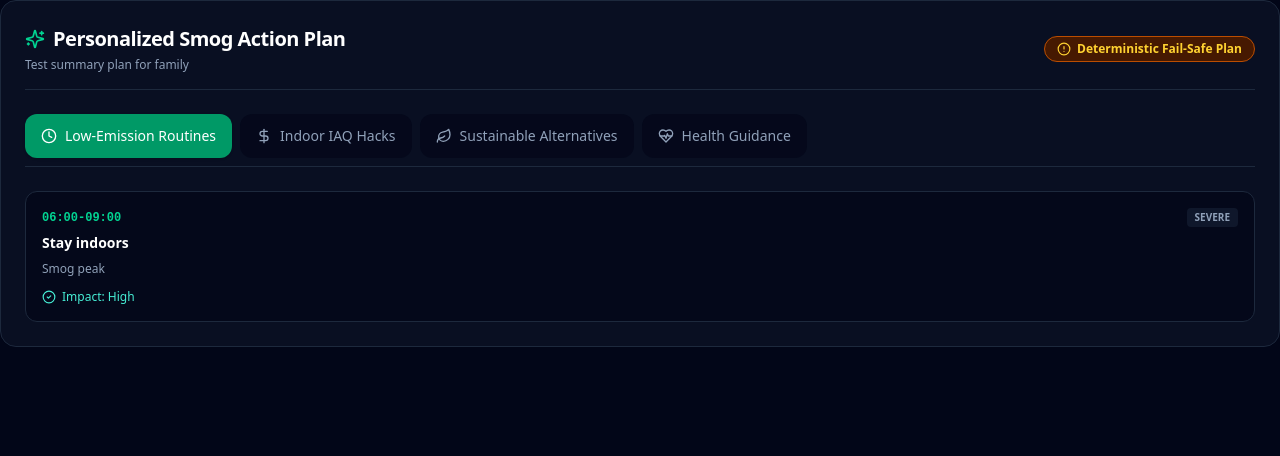
UI Presentation Components Unit Tests › renders PlanDisplay with interactive tab switching
expect the text "Test summary plan for family" is shown: met, box [25, 56, 189, 73]
expect the text "Stay indoors" is shown: met, box [42, 233, 129, 252]
Click the tab "Indoor IAQ Hacks".
click(326, 136)  # box [240, 114, 412, 158]
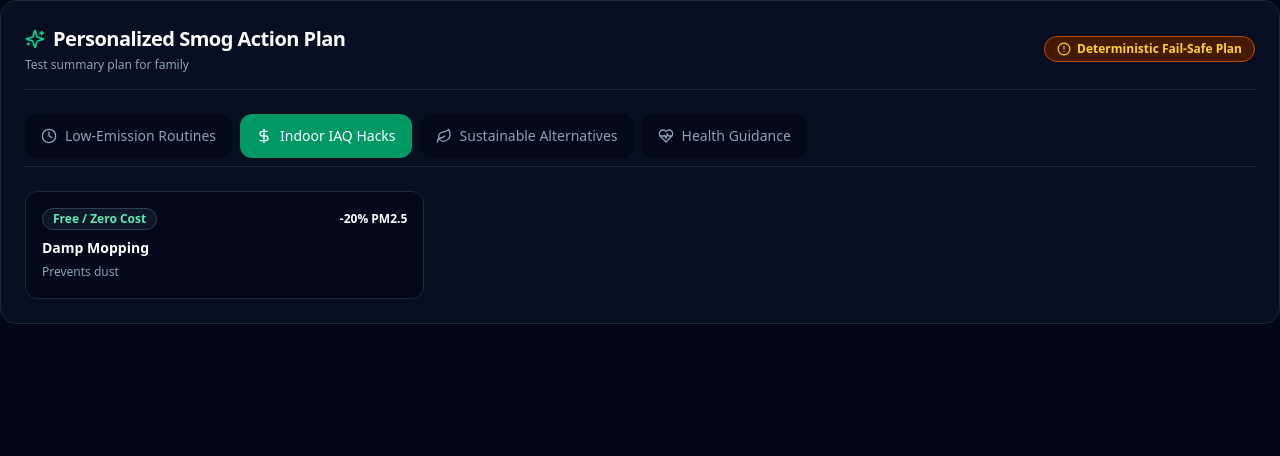
expect the heading "Damp Mopping" is shown: met, box [42, 238, 149, 257]
Click the tab "Sustainable Alternatives".
click(527, 136)  # box [420, 114, 634, 158]
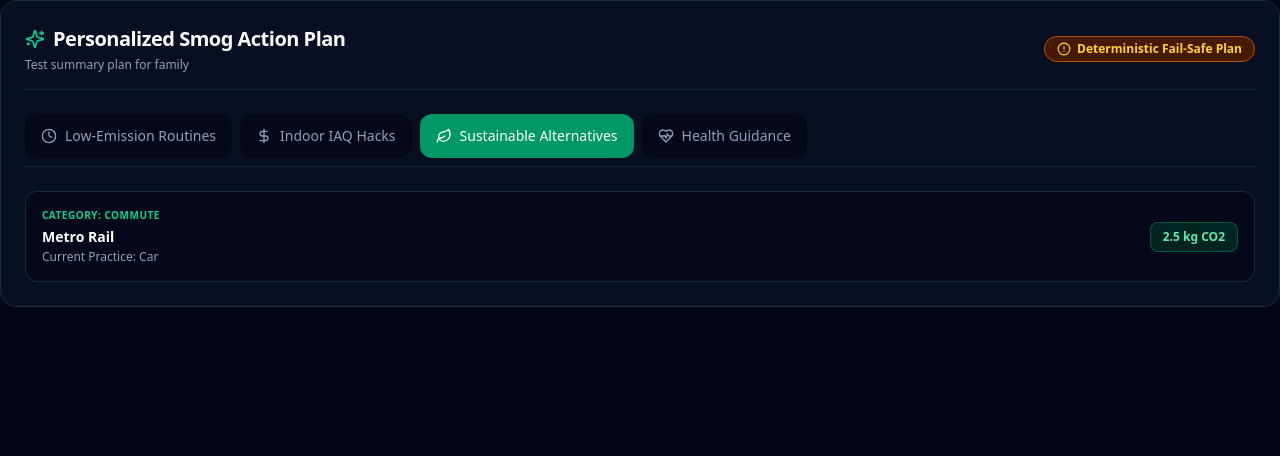
expect the text "Metro Rail" is shown: met, box [42, 227, 114, 246]
Click the tab "Health Guidance".
click(724, 136)  # box [642, 114, 807, 158]
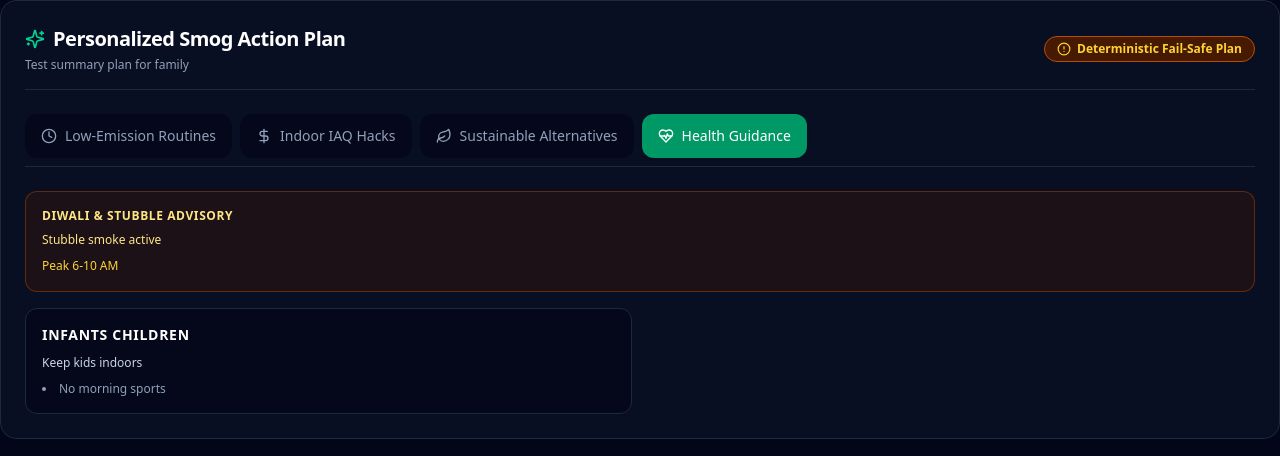
expect the text "Keep kids indoors" is shown: met, box [42, 354, 142, 371]
